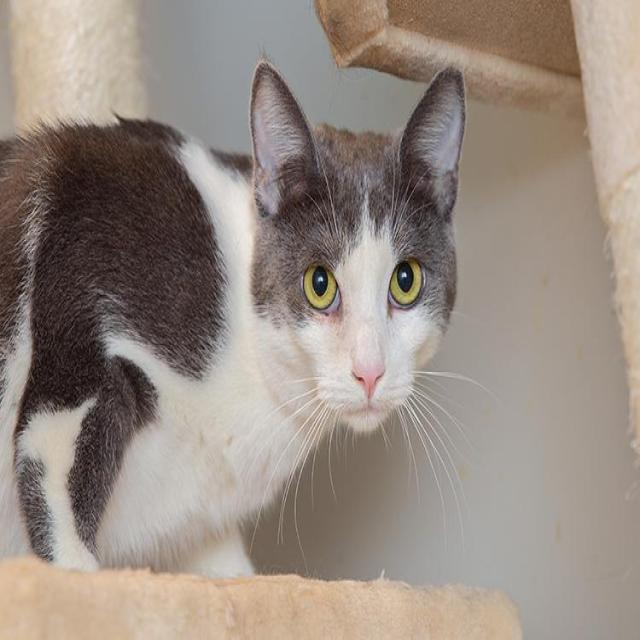Cat: (241, 45, 474, 446)
